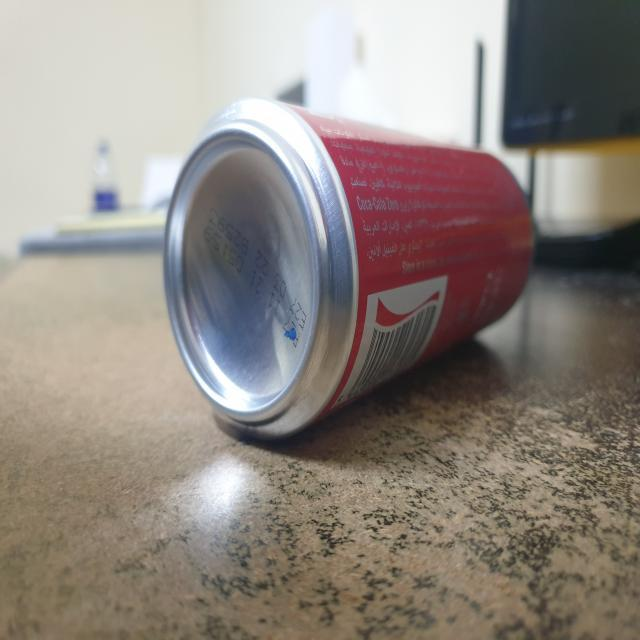can: (148, 91, 547, 455)
